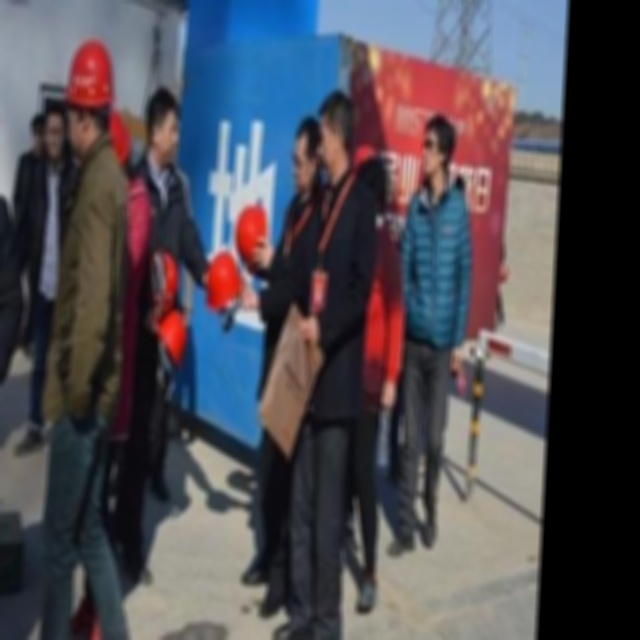Con_Casco: (64, 41, 115, 156)
Sin_Casco_Mascarrilla: (420, 116, 457, 181)
Sin_Chaleco: (402, 182, 470, 345)
